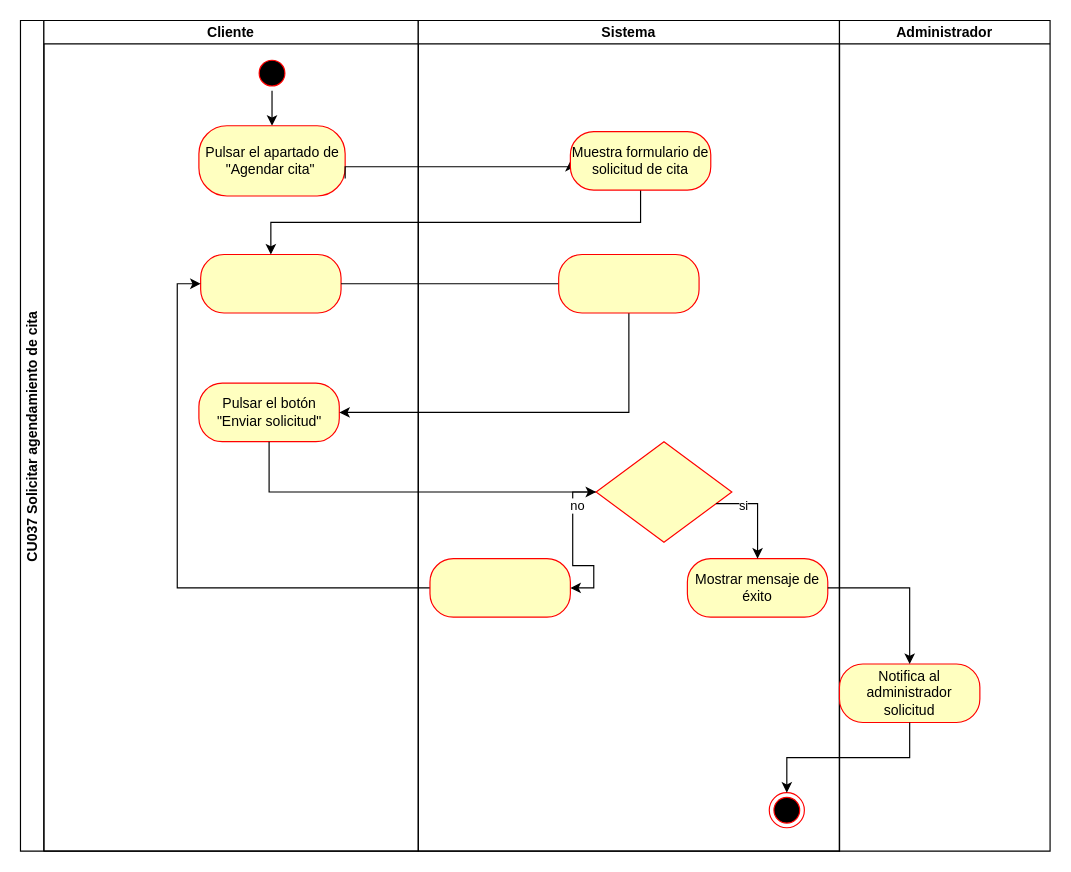
Some shapes in this 1071 by 872 pixel diagram are drawn without their labels. Here are the shapes that lost their labels. From the top down, the centre of each, then its label:
(x=270, y=283): Llenar los campos del formulario
(x=628, y=283): Valida que los campos no estén vacíos
(x=663, y=491): ¿Los campos están llenos?
(x=499, y=587): Mostrar mensaje de error
